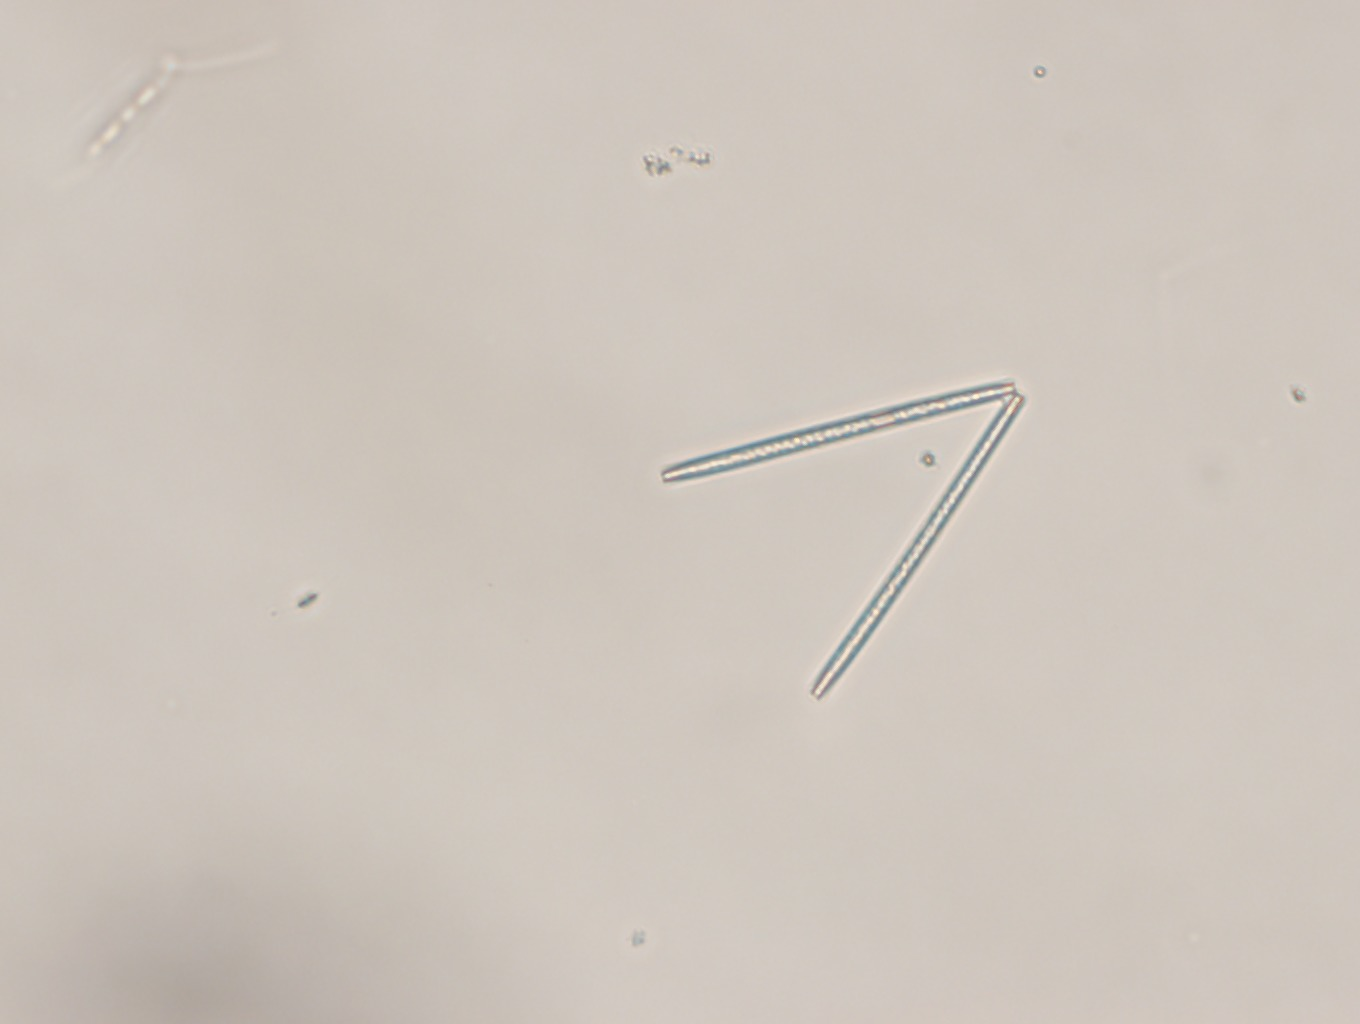thalassionema nitzschioides: (646, 370, 1030, 707)
